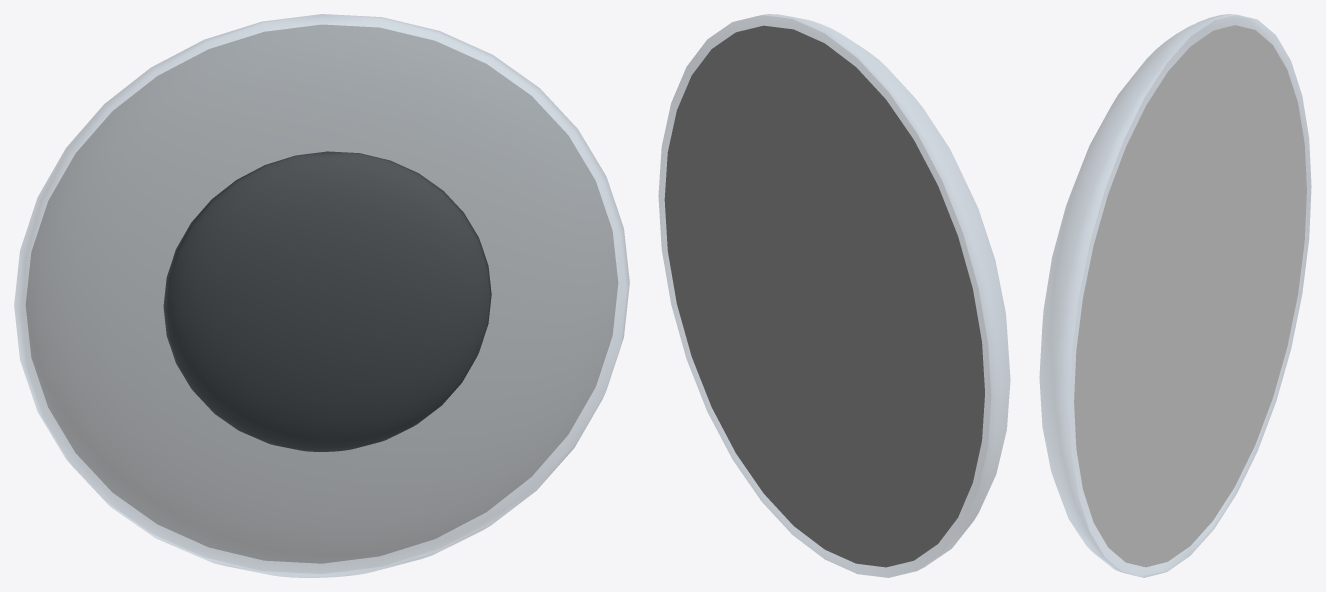
Rendered from eyes.fbx.
3 views of the same model, side by side, from view 1: azimuth 30°, elevation 25°; view 2: azimuth 150°, elevation 25°; view 3: azimuth 270°, elevation 25° (orthographic). The views are drawn at different scales.
Visible parts, largest first — view 1: Eye, Eyeball; view 2: Eye; view 3: Eye.
Part boxes in pixels (box(x1,y1,x2,y2)): Eye: box(14, 14, 629, 577); Eyeball: box(163, 151, 491, 451); Eye: box(658, 14, 1010, 577); Eye: box(1039, 14, 1311, 577).
Size of the model in its own units: 84.25 by 92.38 by 43.89.
